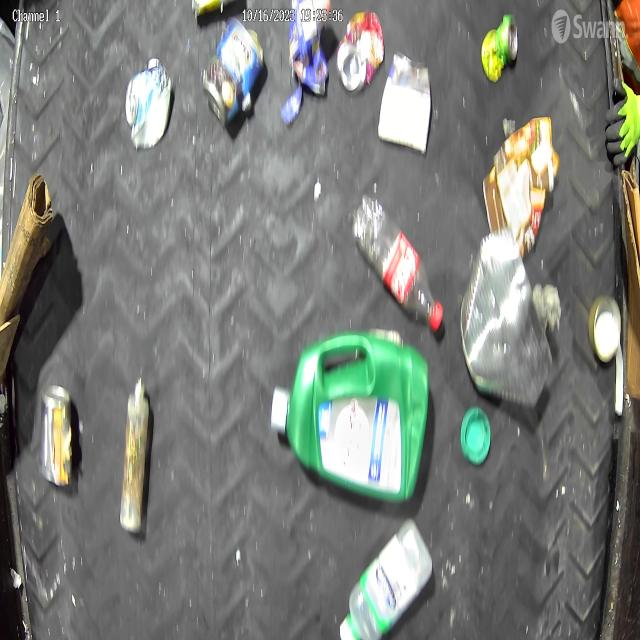can: (458, 224, 553, 410), (200, 16, 266, 128), (377, 48, 432, 156), (124, 54, 174, 150), (334, 9, 386, 95), (38, 380, 74, 490), (480, 12, 519, 85), (588, 291, 622, 365)
non_white_jug: (269, 328, 431, 505)
plastic_bottle: (351, 192, 445, 333)
